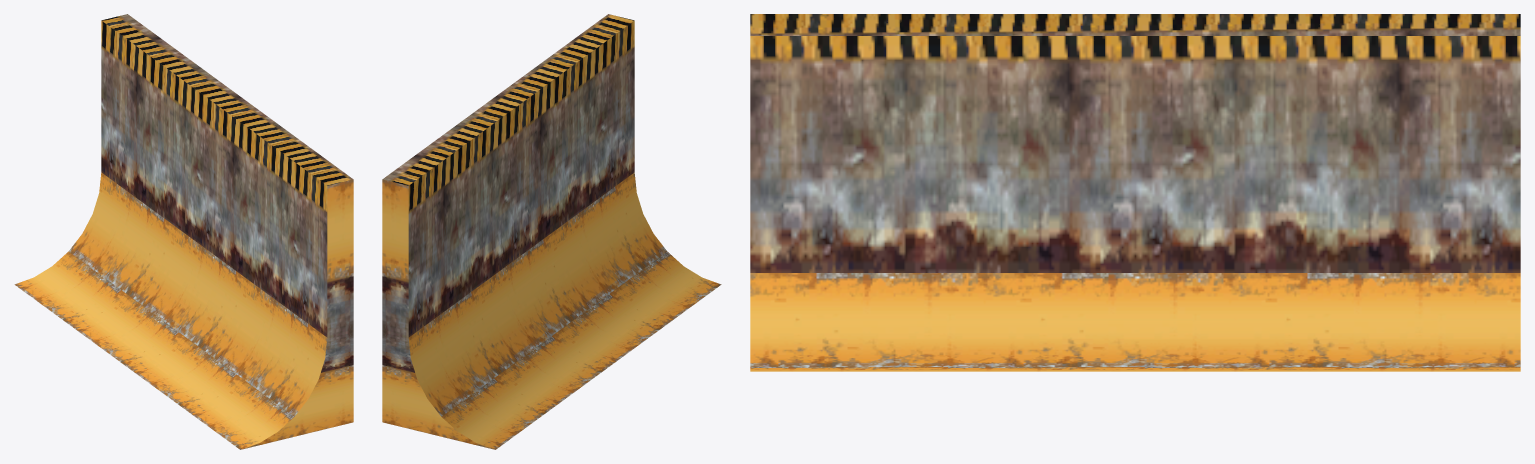
File: BnL-branded (yellow) speed gaining rampfbx.fbx
The picture shows the model from 3 angles, left to right: view 1: azimuth 30°, elevation 25°; view 2: azimuth 150°, elevation 25°; view 3: azimuth 270°, elevation 25°; orthographic projection. The views are drawn at different scales.
Parts seen in each view (by area): view 1: Mesh_0020.rip; view 2: Mesh_0020.rip; view 3: Mesh_0020.rip.
Part boxes in pixels (x1,y1,x2,y2): Mesh_0020.rip: (14,14,353,449); Mesh_0020.rip: (382,14,721,449); Mesh_0020.rip: (750,14,1520,371).
Size of the model in its own units: 521 by 1067 by 1800.
